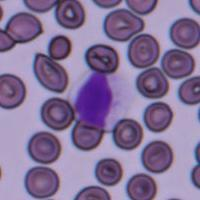L: (70, 70, 134, 130)
